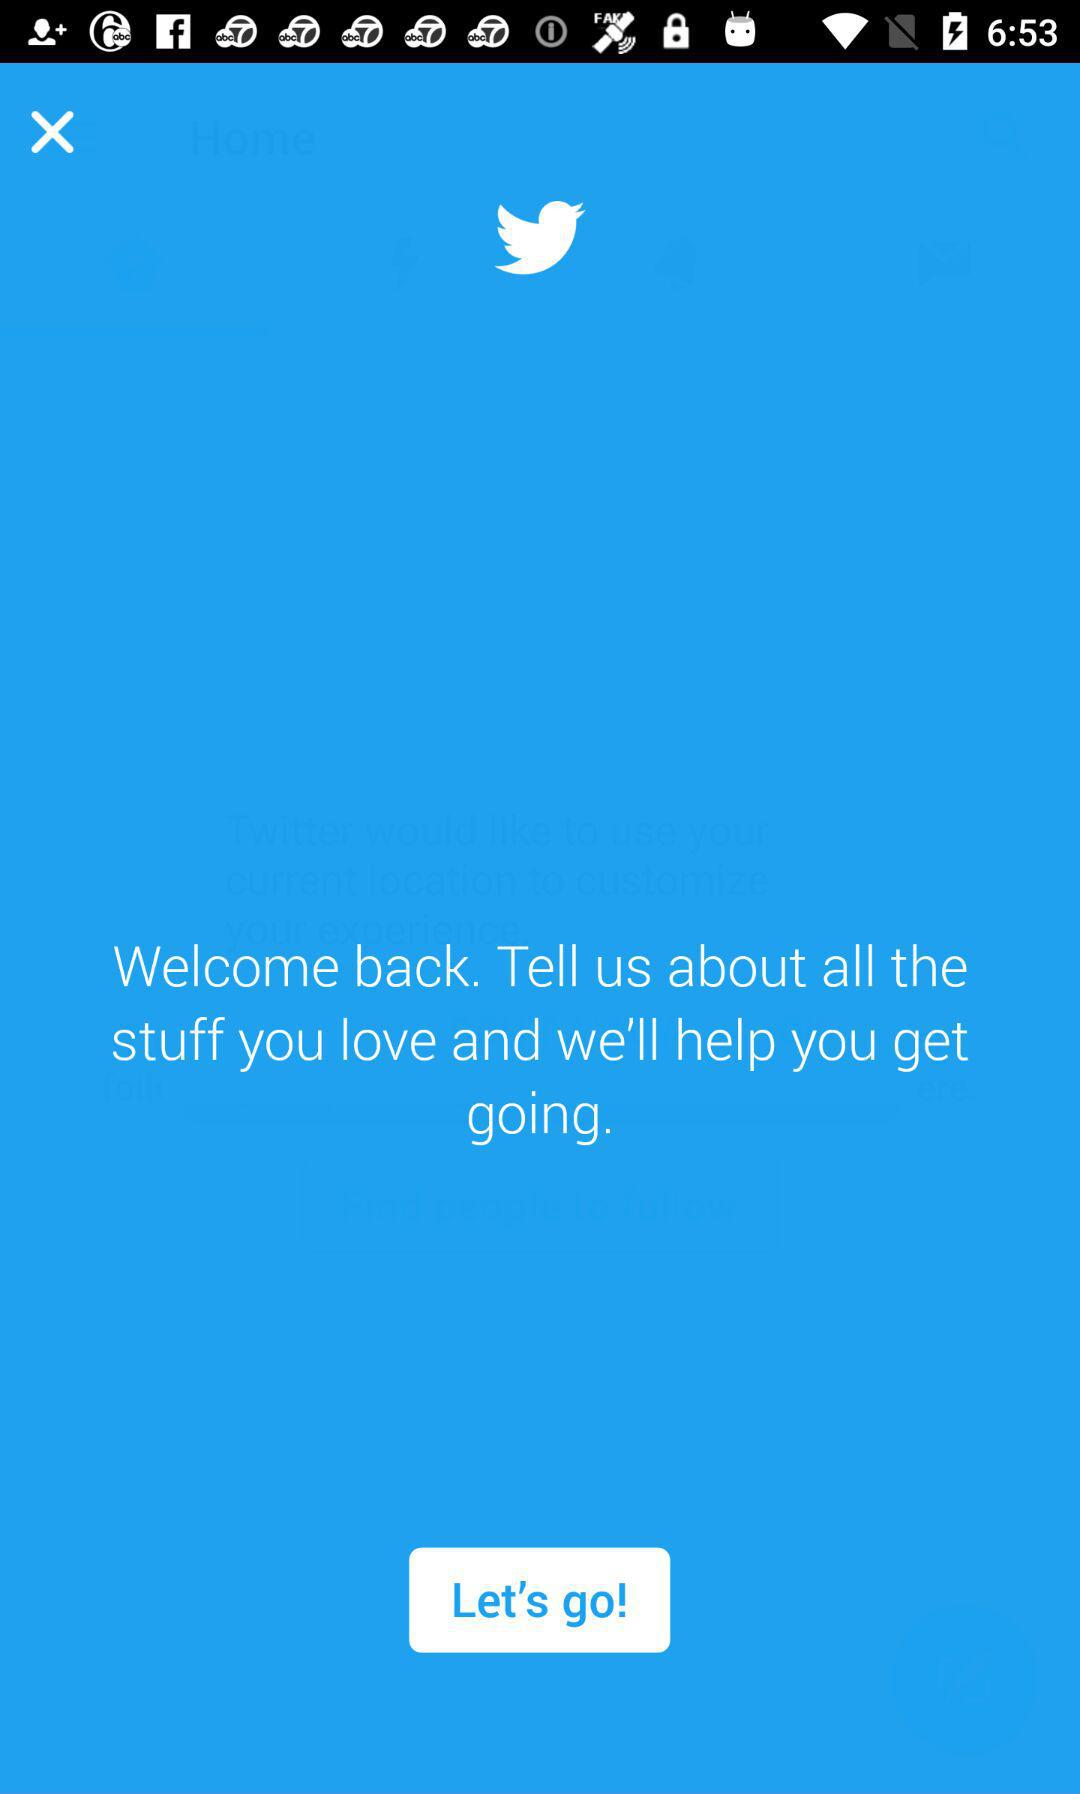Icon: (492, 199, 589, 278), (29, 111, 76, 155)
Text: (111, 943, 970, 1147)
TextButton: (409, 1547, 671, 1654)
UpperTaskBar: (1, 1, 1080, 64)
